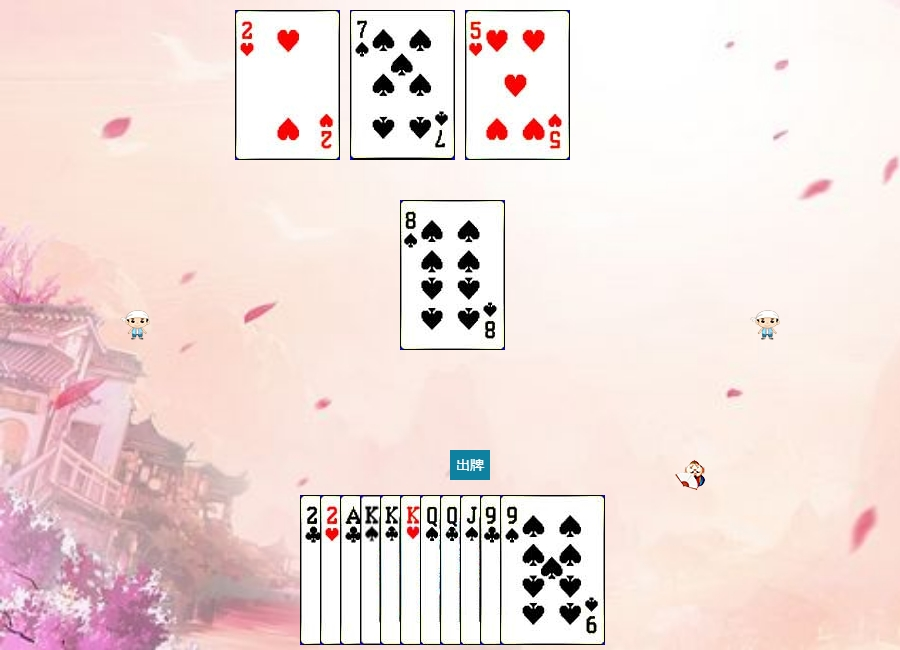11~4: (460, 495, 565, 645)
12~2: (440, 495, 545, 645)
12~4: (420, 495, 525, 645)
13~2: (380, 495, 485, 645)
13~3: (400, 495, 505, 645)
13~4: (360, 495, 465, 645)
14~2: (340, 495, 445, 645)
15~2: (300, 495, 405, 645)
15~3: (235, 10, 340, 160), (320, 495, 425, 645)
5~3: (465, 10, 570, 160)
7~4: (350, 10, 455, 160)
8~4: (400, 200, 505, 350)
9~2: (480, 495, 585, 645)
9~4: (500, 495, 605, 645)
